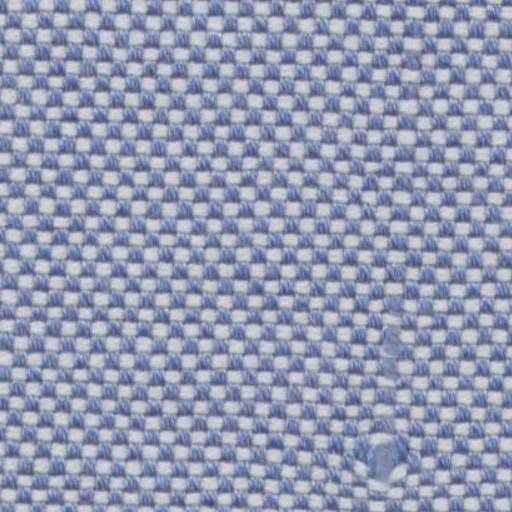PoDong: (320, 434, 457, 490)
